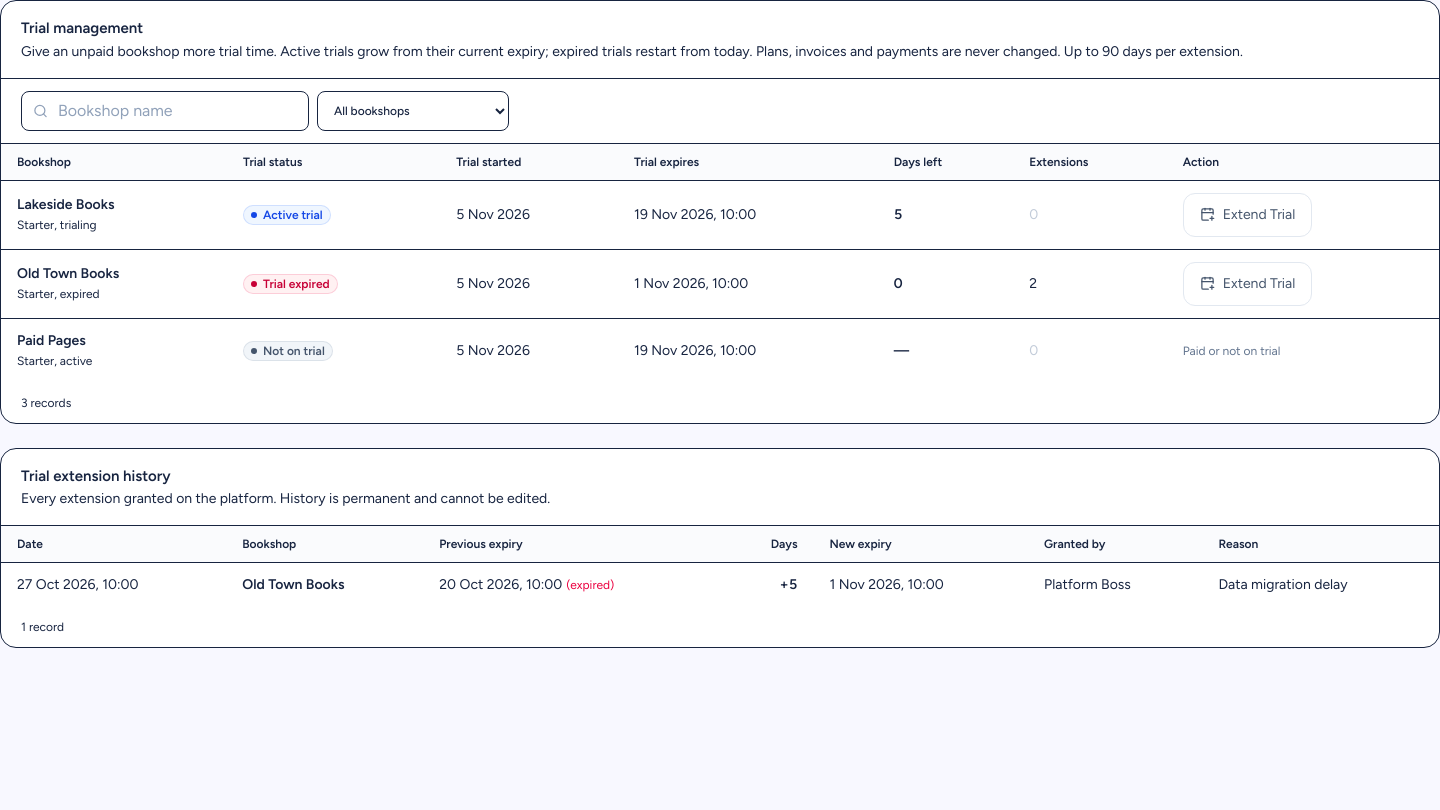
it: Trial extension panel › cancel closes the modal without saving
The image size is (1440, 810).
Click the button with aria-label "Extend trial for Lakeside Books" at (1248, 214), box 1183,192 -> 1312,236
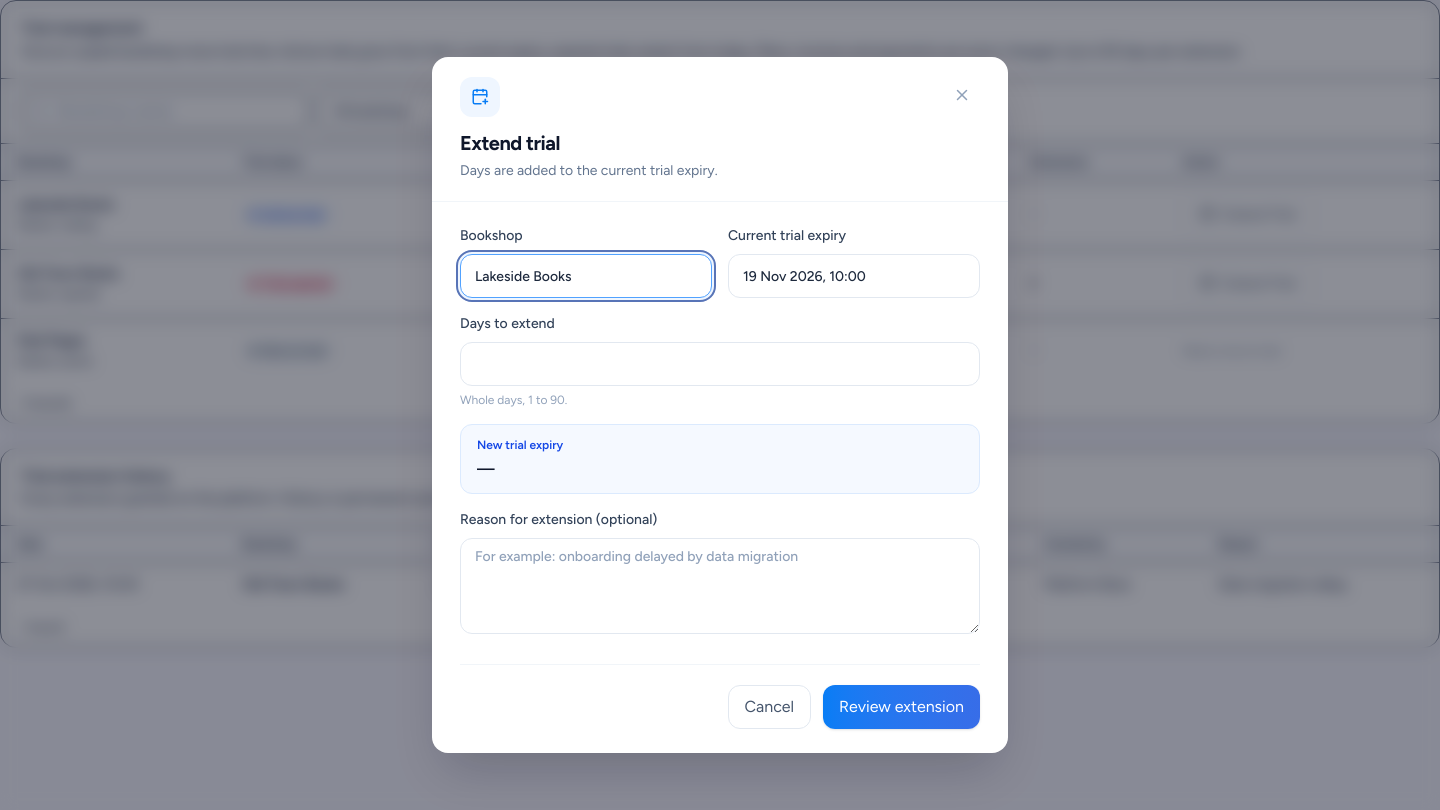
Click the button "Cancel" at (769, 707), box 728,685 -> 811,729
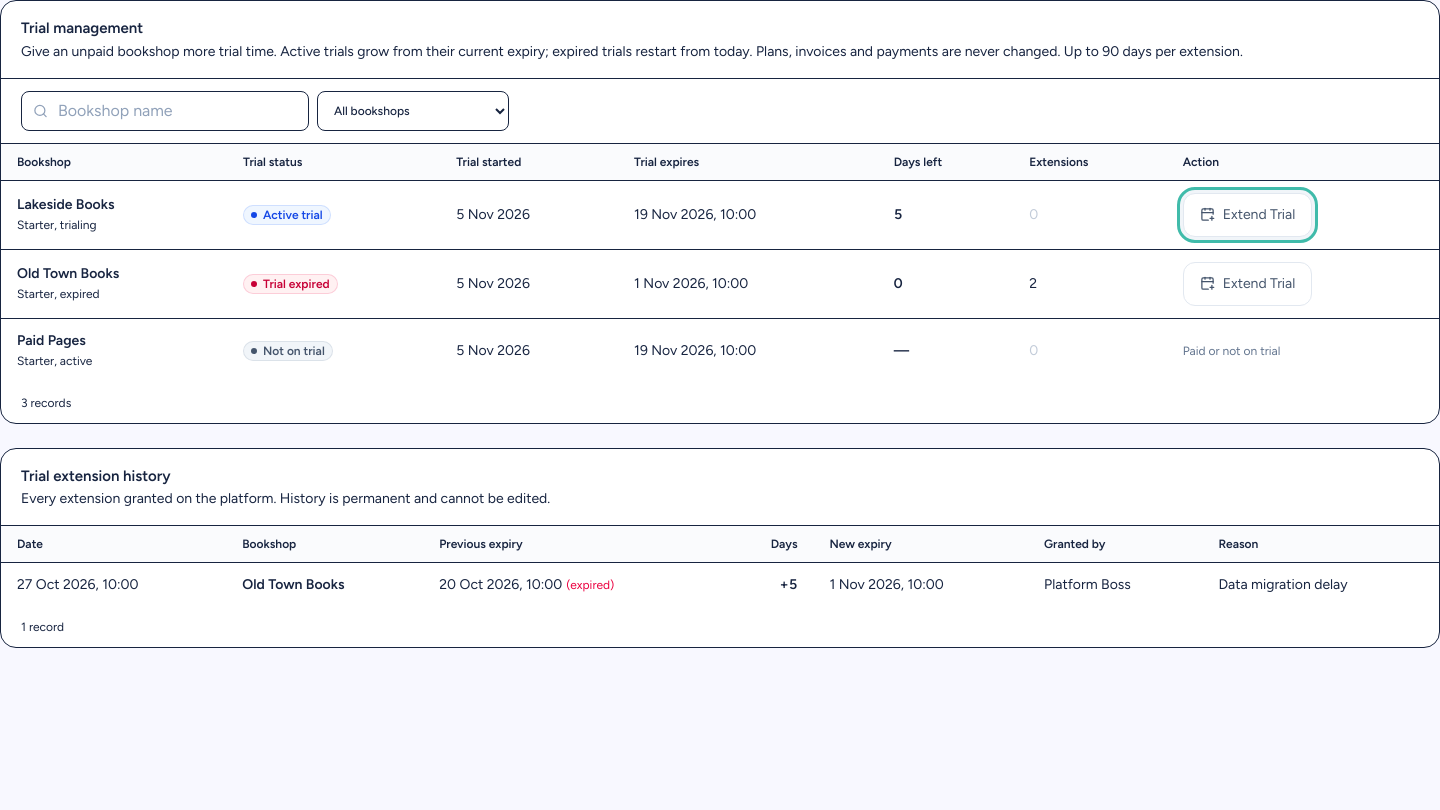
Check: the dialog is gone
